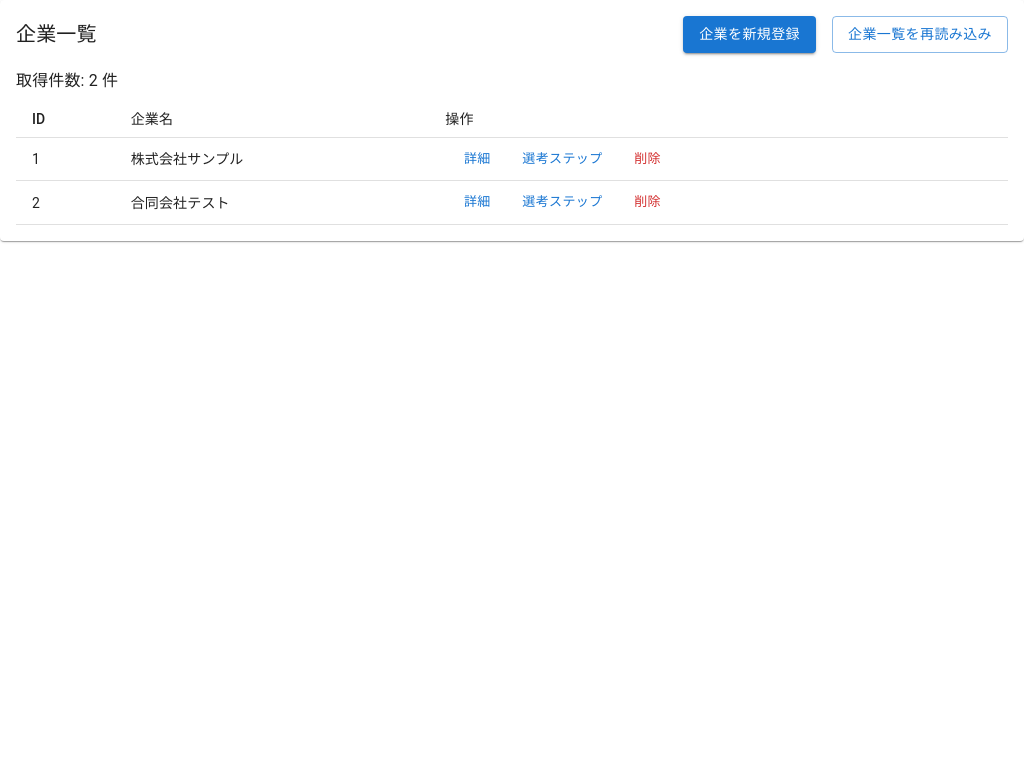
企業削除 › 確認のうえ削除でき、削除後は一覧・詳細から参照できなくなる
The width and height of the screenshot is (1024, 768).
Expected: the text "取得件数: 2 件" is shown, [16,70,118,90]
Click the button with aria-label "企業「合同会社テスト」を削除" at (648, 203), box [616,187,680,218]
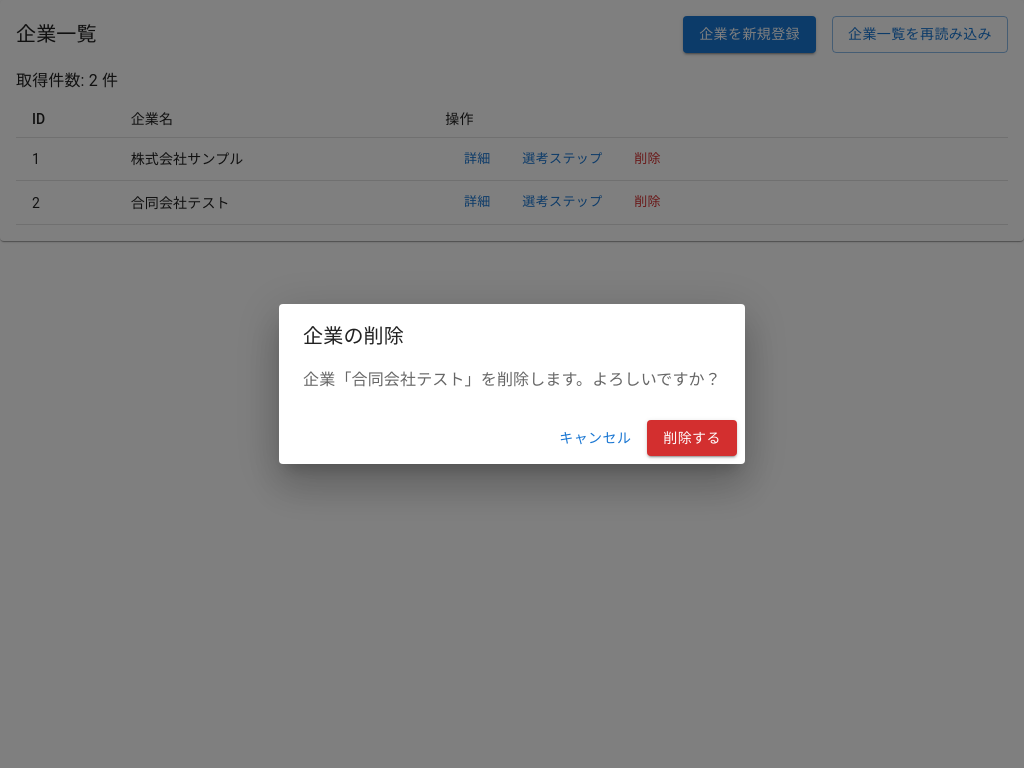
Expected: the text "企業「合同会社テスト」を削除します。よろしいですか？" is shown, [303,368,721,392]
Click the button "削除する" at (692, 438), box [647,420,737,456]
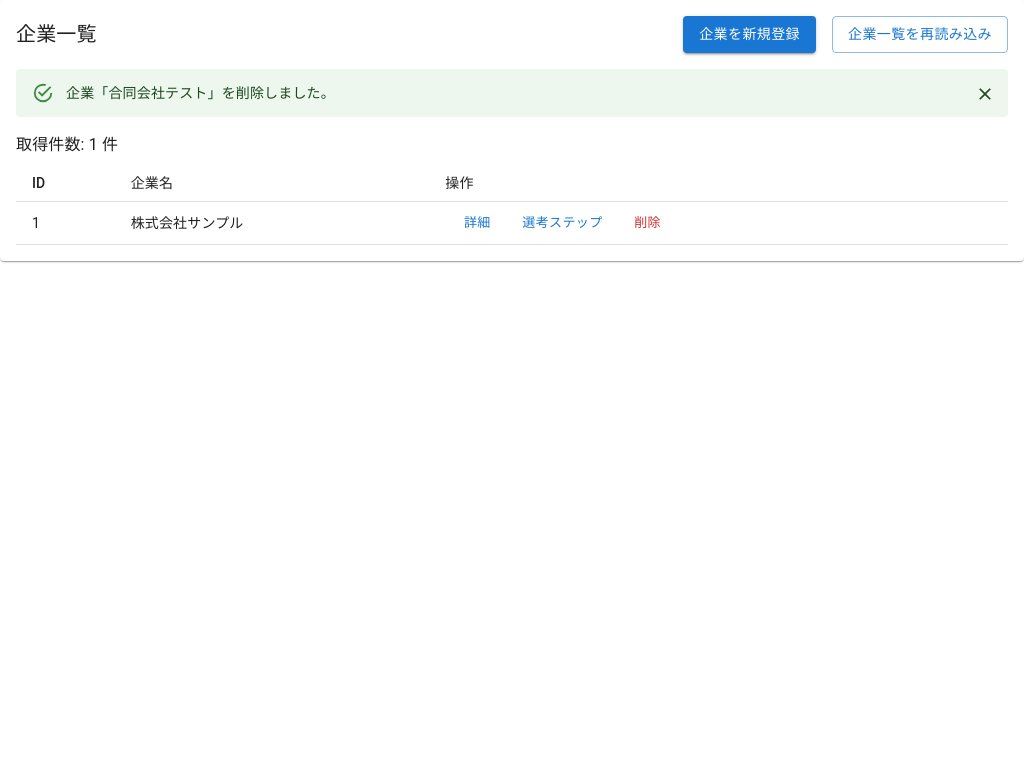
Expected: the dialog is gone
Expected: the text "企業「合同会社テスト」を削除しました。" is shown, [66,84,335,100]
Expected: the text "取得件数: 1 件" is shown, [16,134,118,154]
